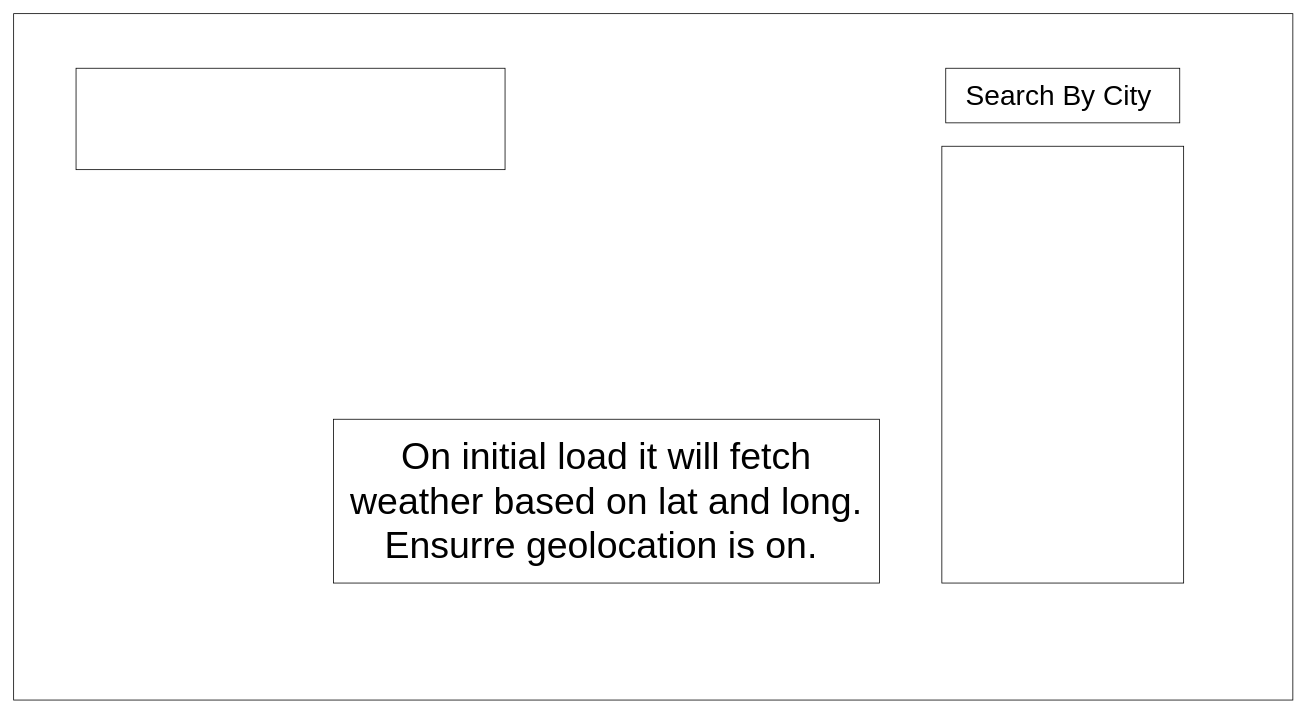
The diagram is 1307 pixels wide and 714 high, and some of its shapes have lost their labels. Here are the shapes that lost their labels. From the top down, the box of each, then its label:
(75, 67, 505, 170): Photo credits as fetched from Unsplash
(941, 145, 1184, 583): Predefined Cities, Click for Weather Info
